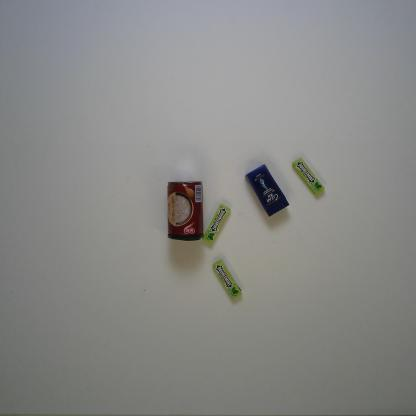Canned Food: (165, 179, 204, 242)
Gum: (291, 156, 325, 197), (201, 202, 232, 245), (212, 258, 243, 300)
Personal Hygiene: (244, 164, 290, 219)
